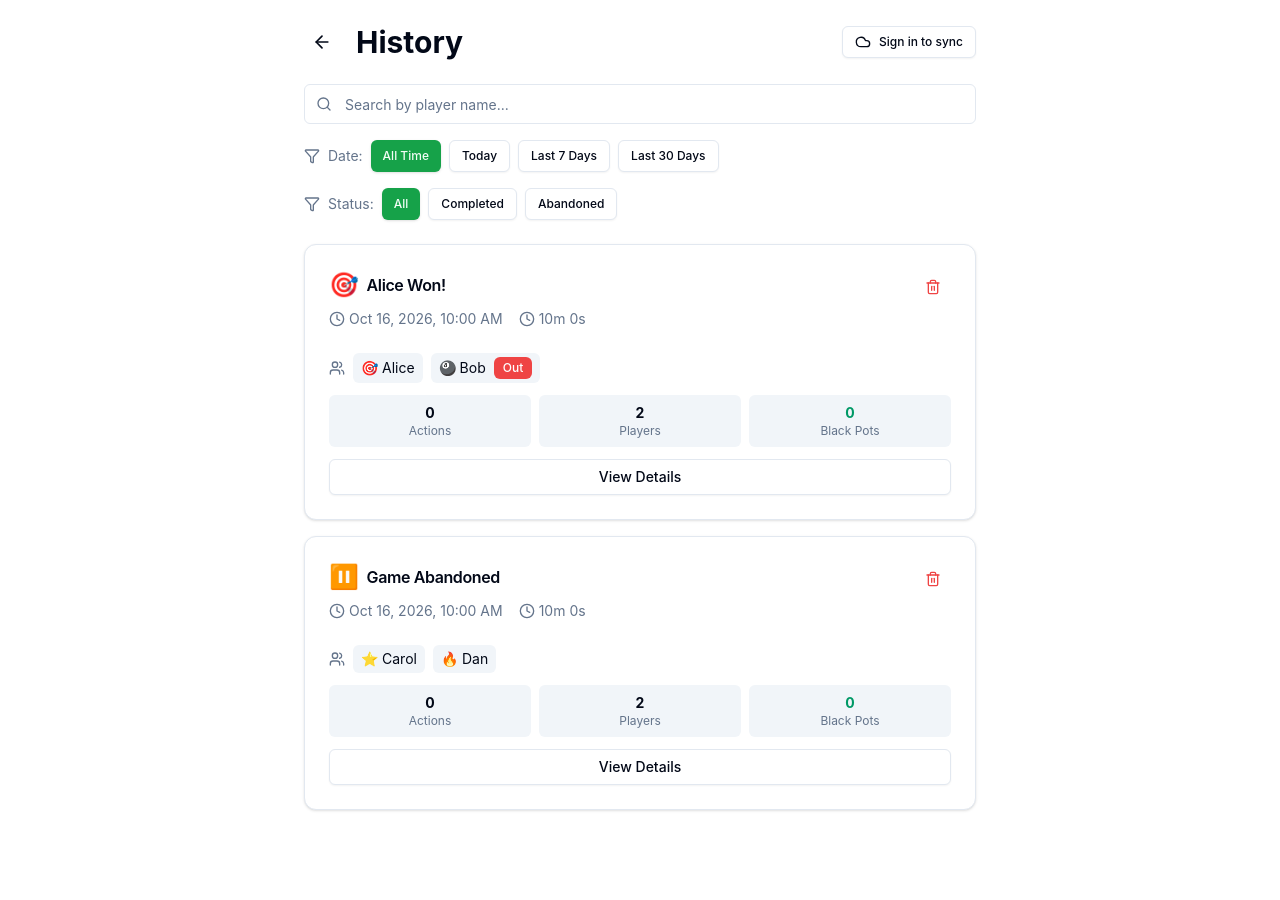
Scenario: HistoryPage › should drop a deleted game from the list once the user confirms
This screenshot has width=1280, height=900.
What coordinates should you click on to do the following:
click the button named "delete game from" in the row of "Won!"
I would click on:
 (933, 287)
Its box is [915,269,951,305].
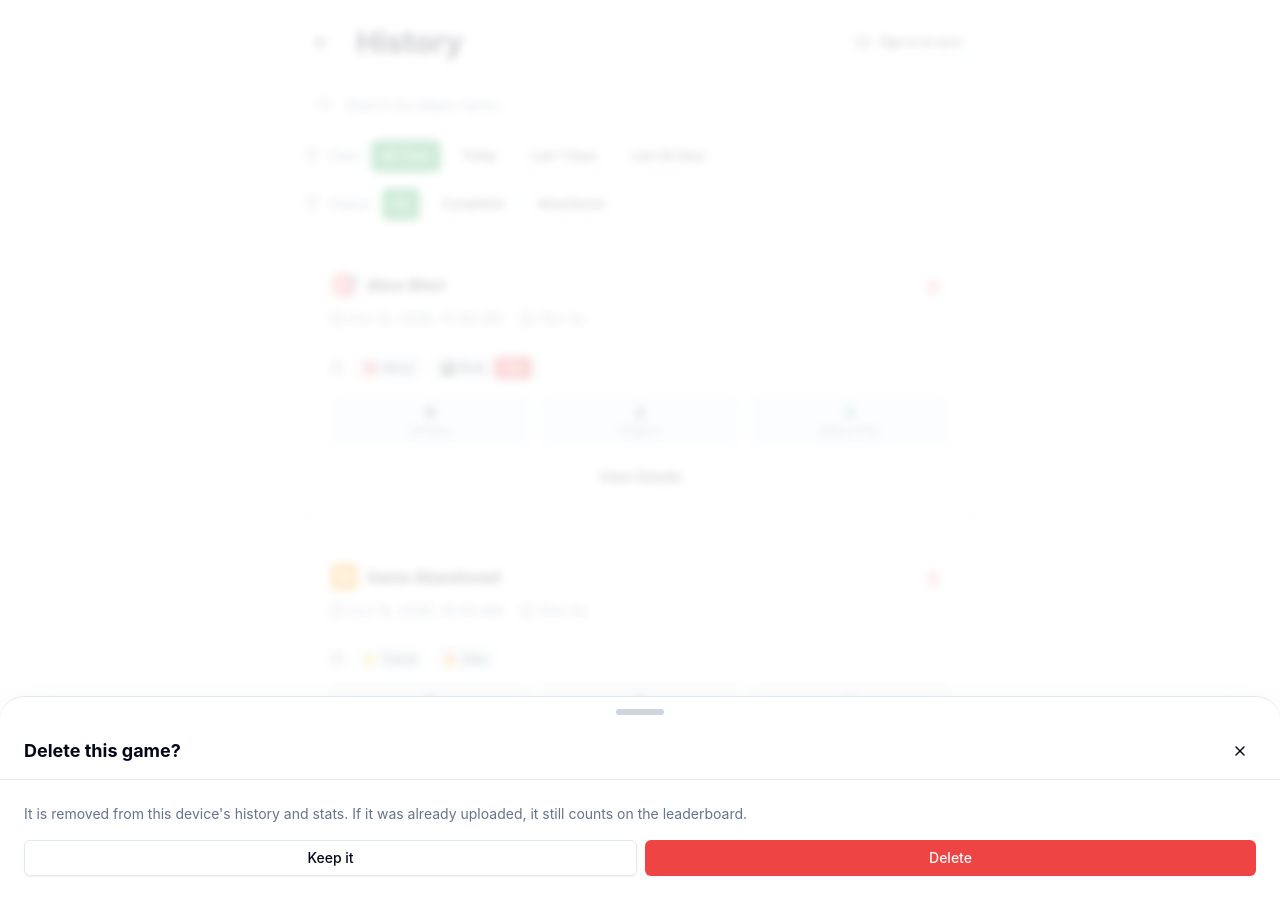
What coordinates should you click on to do the following:
click the button "Delete"
I would click on:
 (950, 858)
Its box is [645,840,1256,876].
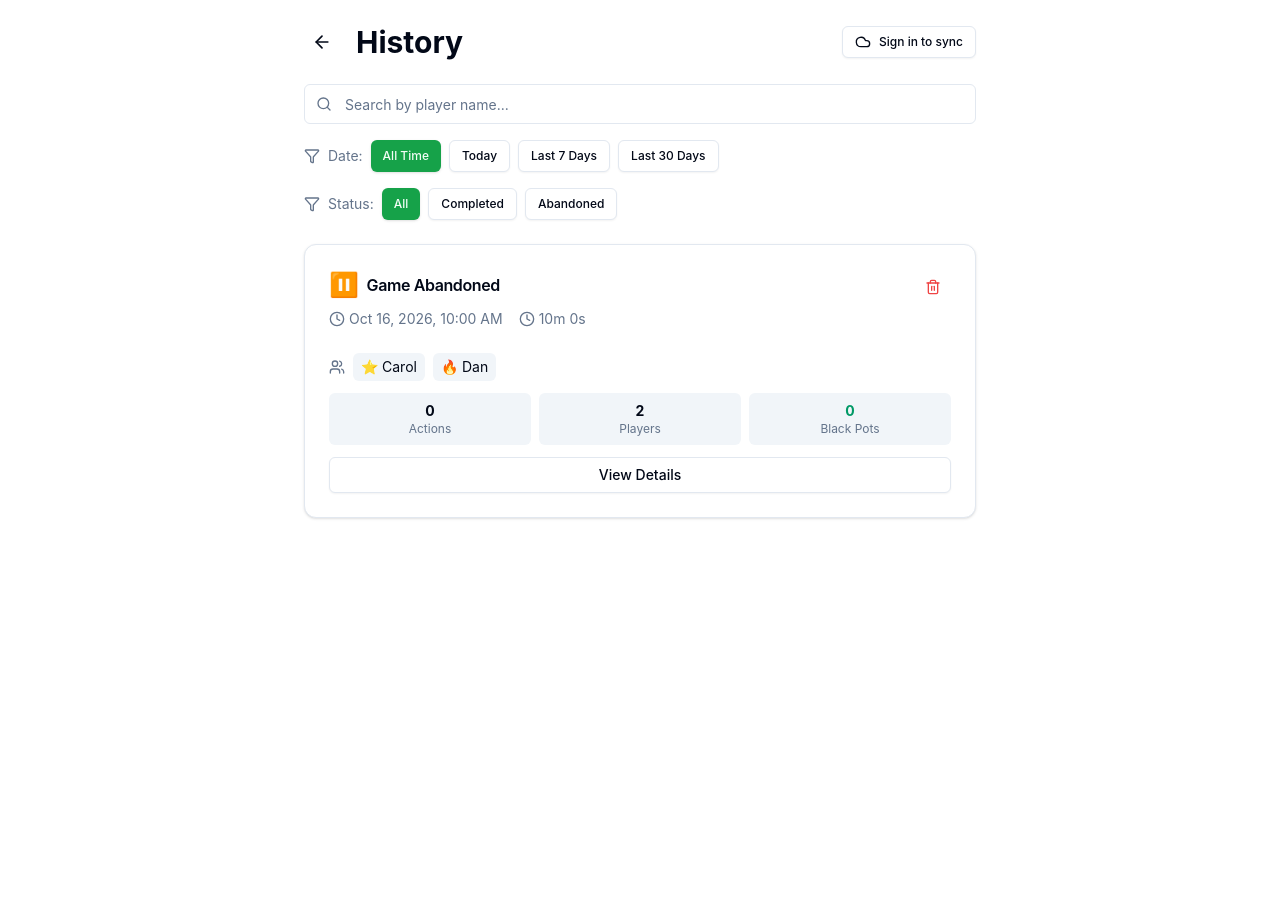
Result: the number of buttons named "delete game from" is 1 at [915,269,951,305]
